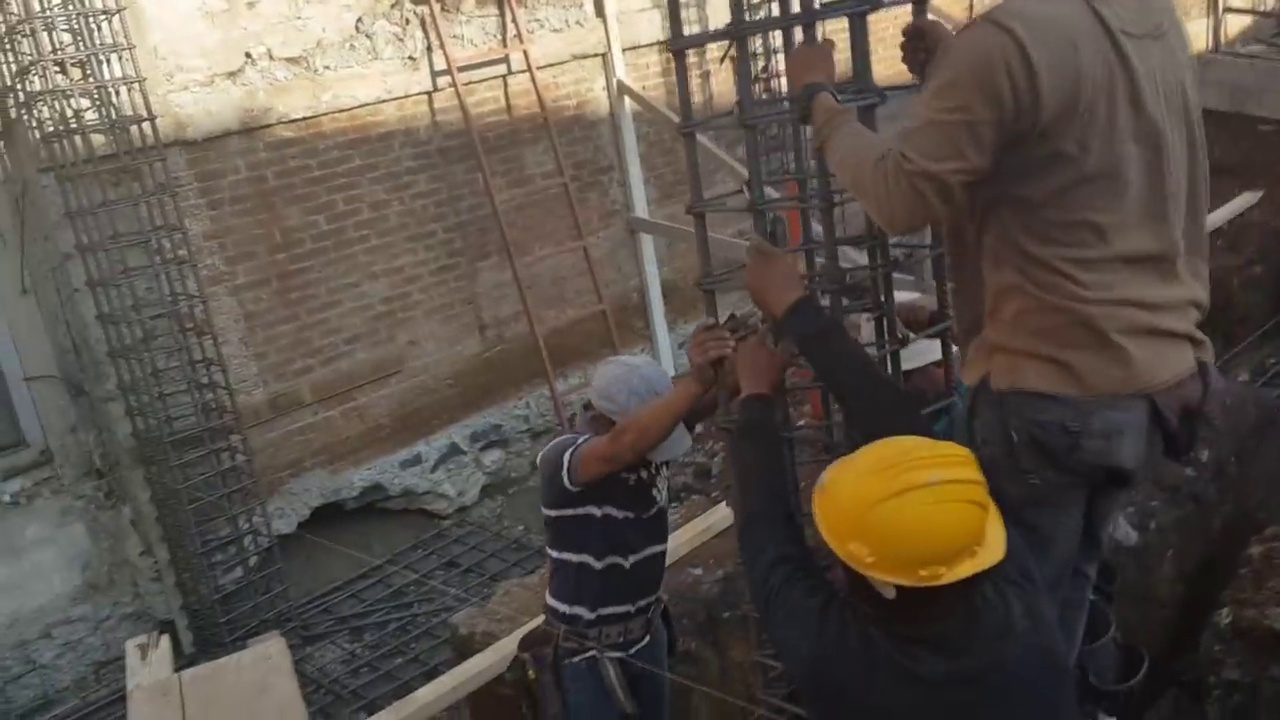helmet: (814, 430, 998, 606)
helmet-off: (580, 358, 715, 467)
helmet-on: (794, 412, 1022, 640)
person: (796, 0, 1219, 649), (725, 240, 1070, 716), (527, 349, 747, 718)
